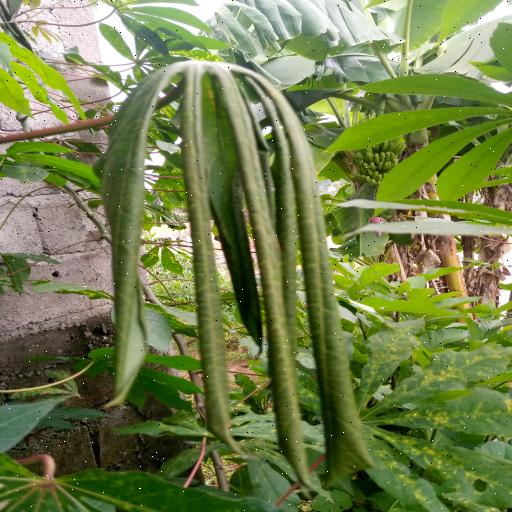Cassava_Root_Rot: (100, 54, 380, 490)
